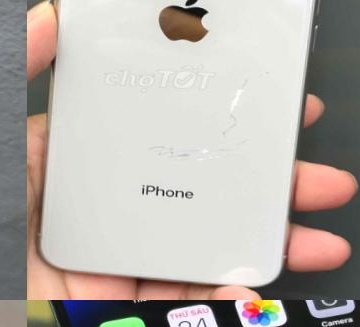scratch: (136, 120, 233, 175), (212, 72, 256, 158)
